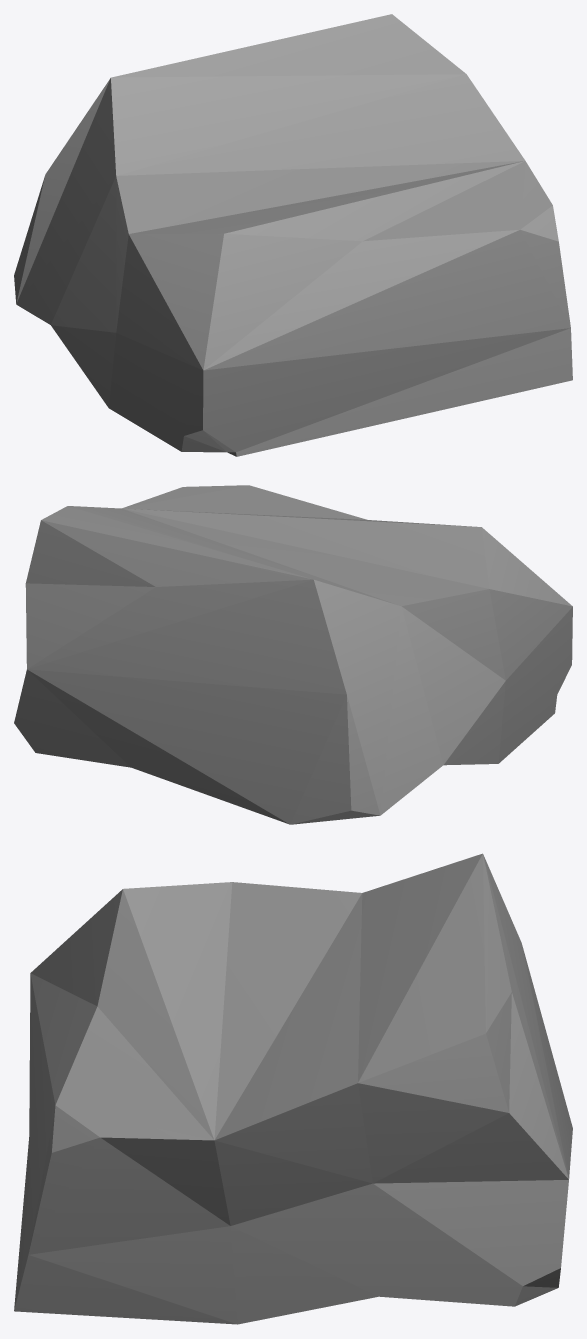
Rendered from stone-small-3.glb.
The picture shows the model from 3 angles, top to bottom: view 1: azimuth 30°, elevation 25°; view 2: azimuth 150°, elevation 25°; view 3: azimuth 270°, elevation 25°; orthographic projection. The views are drawn at different scales.
Parts seen in each view (by area): view 1: stone small 3; view 2: stone small 3; view 3: stone small 3.
Part boxes in pixels (bbox=[...]): stone small 3: bbox=[14, 14, 572, 456]; stone small 3: bbox=[14, 485, 572, 824]; stone small 3: bbox=[14, 853, 572, 1324].
Bounding box in the file's own units: 1.22 × 0.6866 × 1.17.
Materials: 1 (1 with a texture image).
